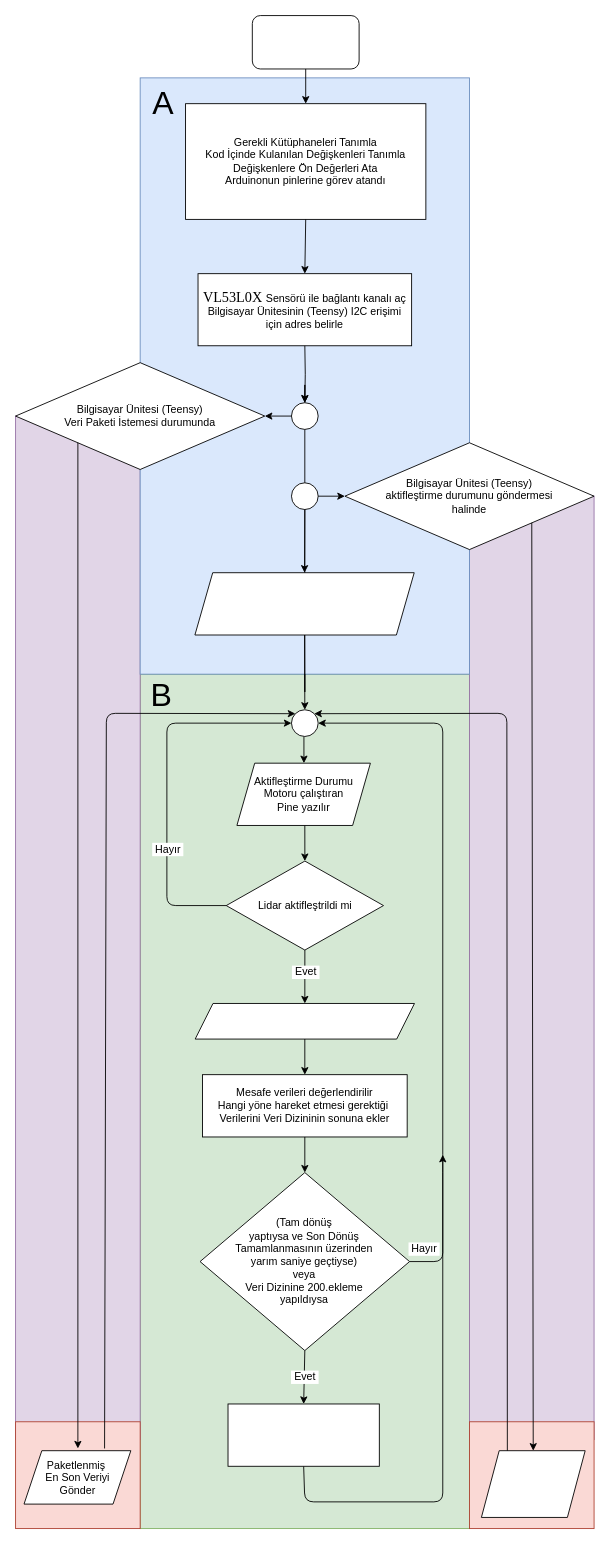
This 610x1544 diagram has some shape labels left out. The centre of each missing label's shape, as x and y in pixels:
"Aktifleştirme Durumunu Oku" goes at point (533, 1483).
"Başla" goes at point (305, 42).
"Sersör ile Mesafe okunur" goes at point (304, 1021).
"Veri Paketini hazırla Veri Dizinini sıfırla" goes at point (303, 1434).
"VL53L0X Sensörü çalışmaya başlat" goes at point (304, 603).
